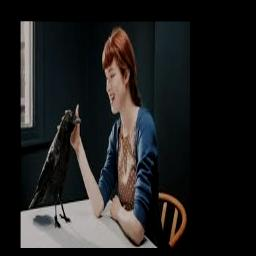Crow: (28, 112, 82, 229)
